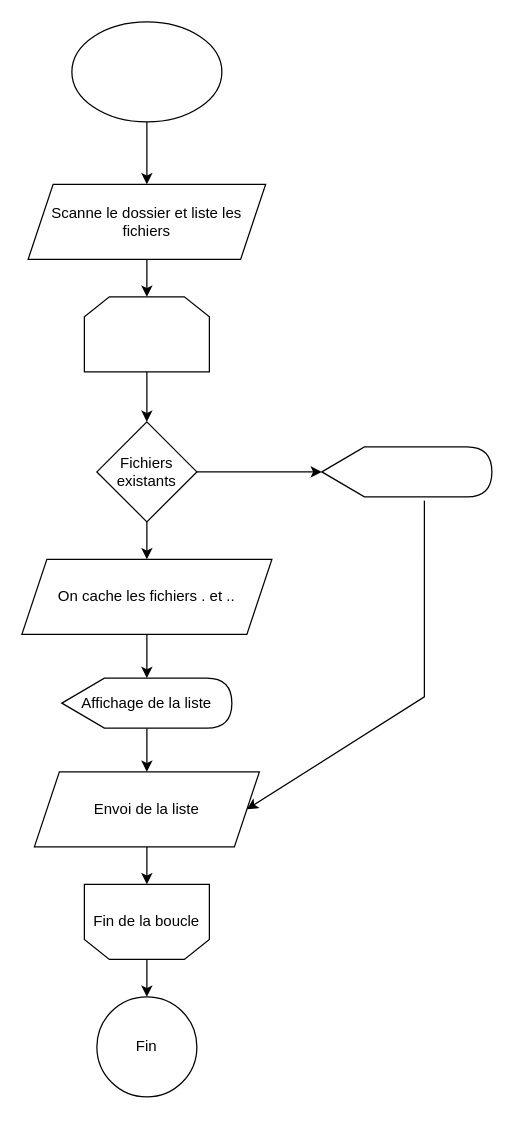
Some shapes in this 514 by 1129 pixel diagram are drawn without their labels. Here are the shapes that lost their labels. From the top down, the centre of each, then its label:
At pixel 146 71: "Début".
At pixel 146 334: "Tant qu'il y a un fichier".
At pixel 406 471: "Pas de fichiers".
